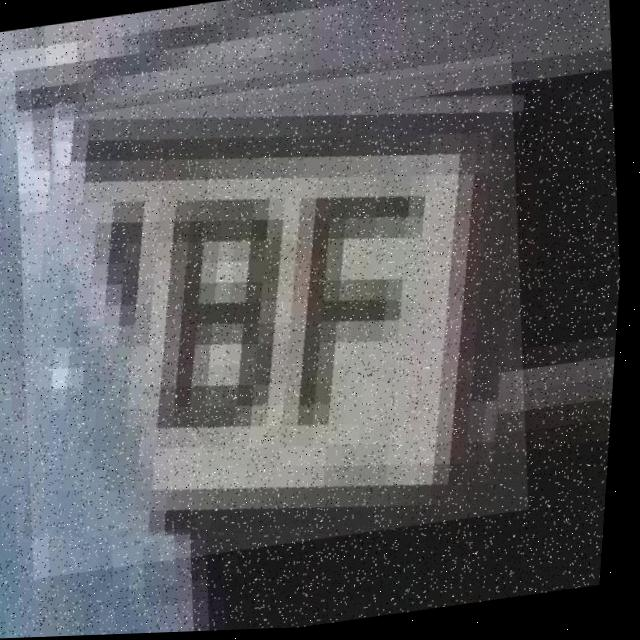LicensePlate: (0, 56, 560, 581)
